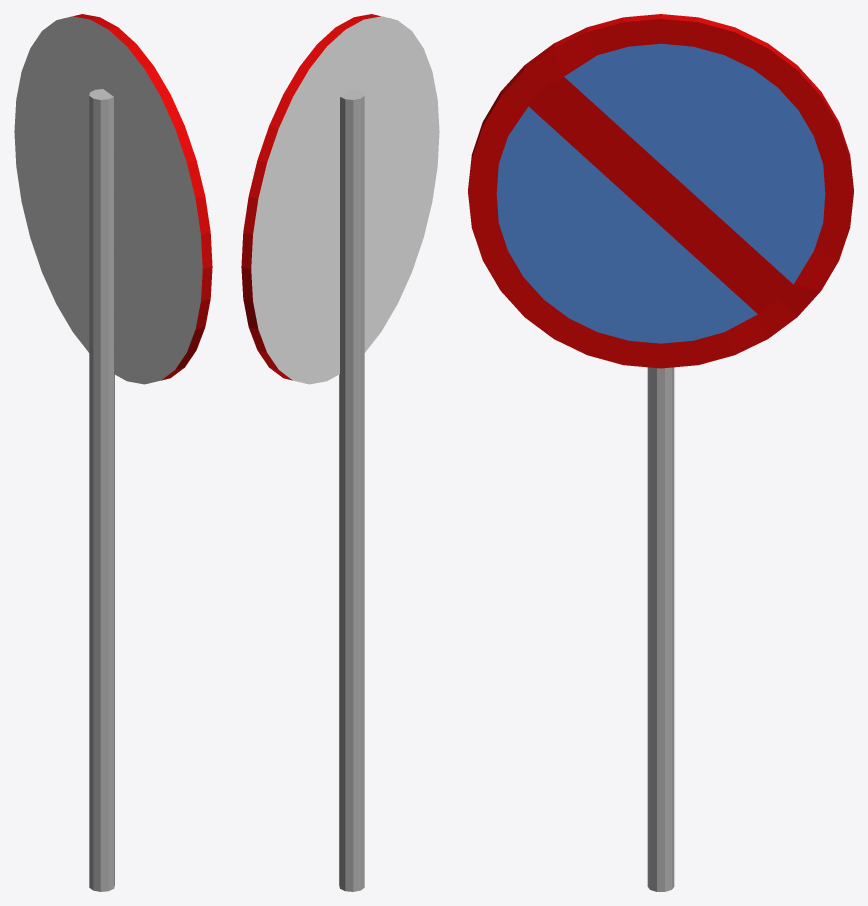
The model's file is Sign_03.fbx.
3 renders of one model, left to right at view 1: azimuth 30°, elevation 25°; view 2: azimuth 150°, elevation 25°; view 3: azimuth 270°, elevation 25°, orthographic. The views are drawn at different scales.
Visible parts, largest first — view 1: Cylinder.001; view 2: Cylinder.001; view 3: Cylinder.001.
Part boxes in pixels (bbox=[...]): Cylinder.001: bbox=[14, 14, 212, 891]; Cylinder.001: bbox=[241, 14, 439, 891]; Cylinder.001: bbox=[468, 14, 853, 891].
Bounding box in the file's own units: 7.49 × 216 × 86.2.
